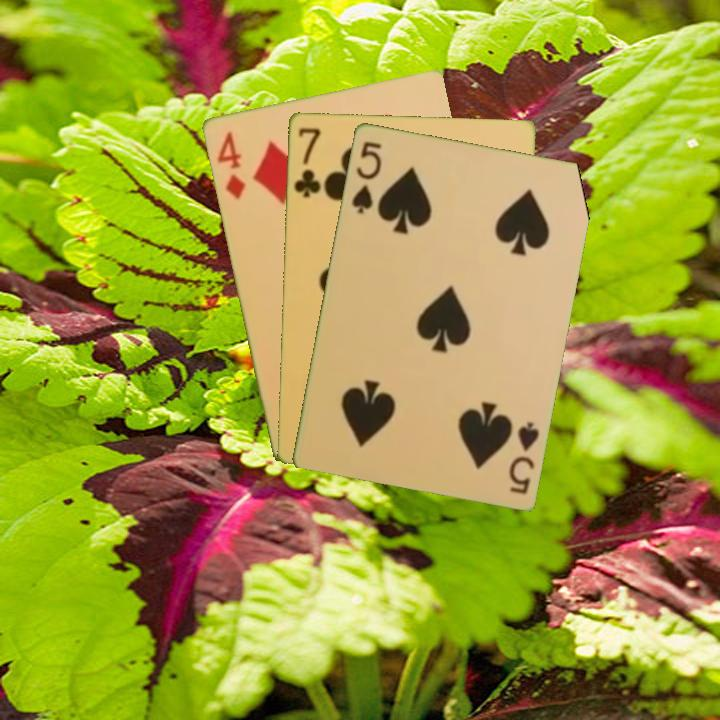4d: (213, 127, 248, 202)
5s: (347, 137, 384, 216), (505, 418, 542, 497)
7c: (290, 124, 324, 200)
